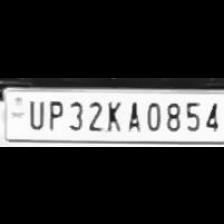0: (143, 97, 161, 129)
2: (84, 96, 104, 132)
3: (65, 96, 83, 130)
4: (200, 98, 222, 130)
5: (182, 98, 200, 130)
8: (163, 98, 181, 130)
A: (123, 96, 141, 130)
K: (103, 96, 123, 132)
P: (43, 96, 63, 130)
U: (23, 96, 44, 128)
